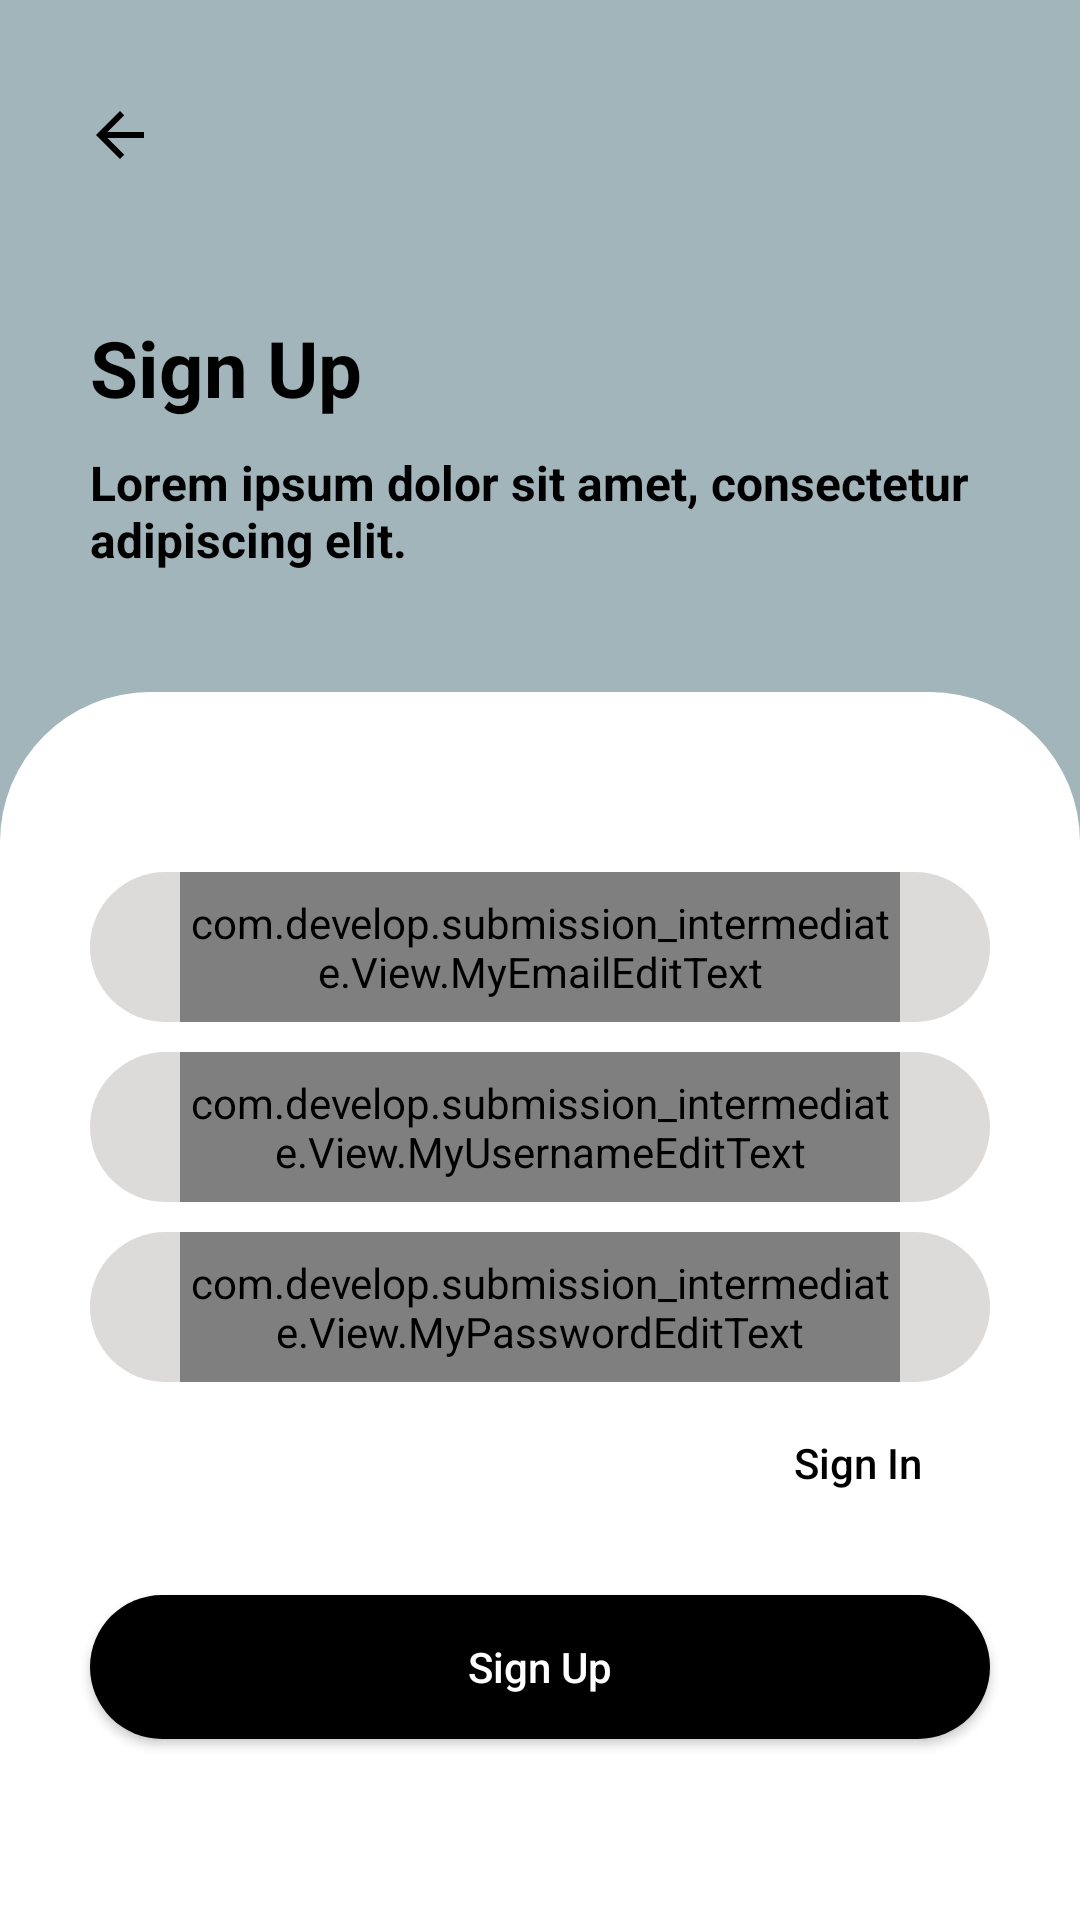

Screen size 1080×1920. Icon name, then its center in pixels as point (x, y):
arrow back: point (120, 135)
